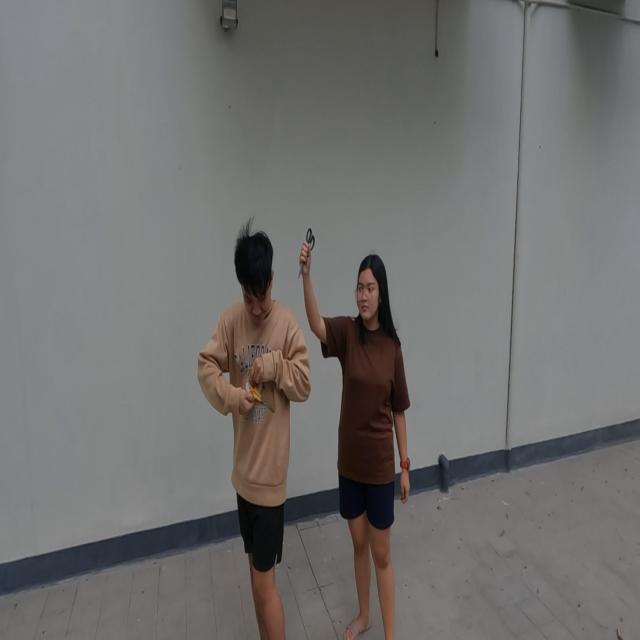scissor: (248, 379, 275, 414), (297, 228, 315, 279)
